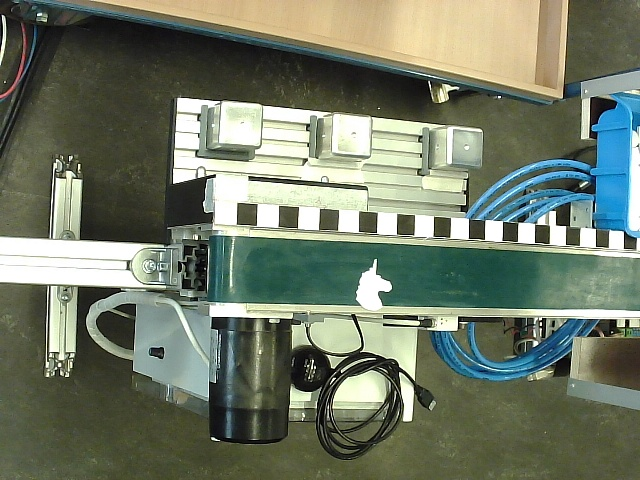unicorn: (356, 258, 393, 311)
